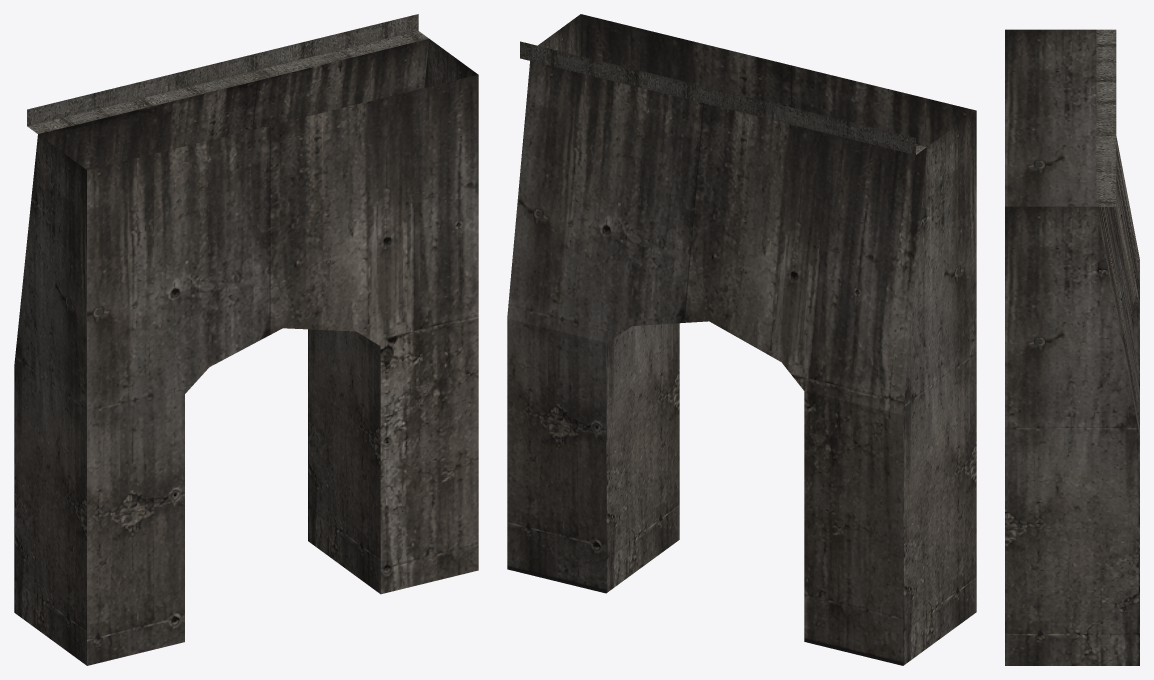
Rendered from ExitWall.fbx.
3 renders of one model, left to right at view 1: azimuth 30°, elevation 25°; view 2: azimuth 150°, elevation 25°; view 3: azimuth 270°, elevation 25°, orthographic. The views are drawn at different scales.
Parts seen in each view (by area): view 1: ExitWall; view 2: ExitWall; view 3: ExitWall.
Part boxes in pixels (x1,y1,x2,y2): ExitWall: (14,14,478,665); ExitWall: (507,14,976,665); ExitWall: (1005,29,1139,665).
Size of the model in its own units: 6.99 by 8.74 by 2.25.
